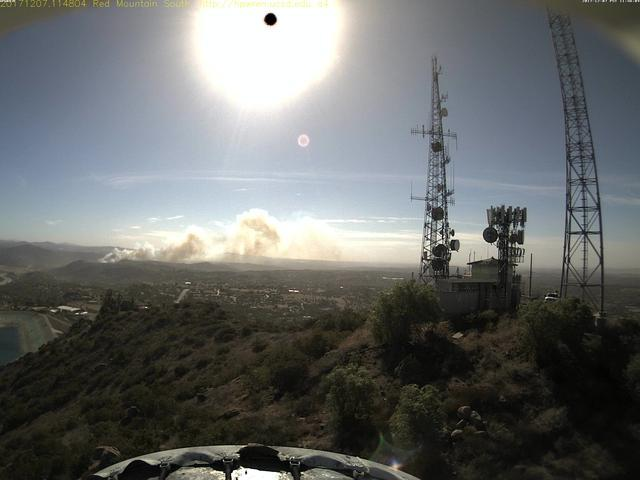smoke: (94, 205, 339, 266)
